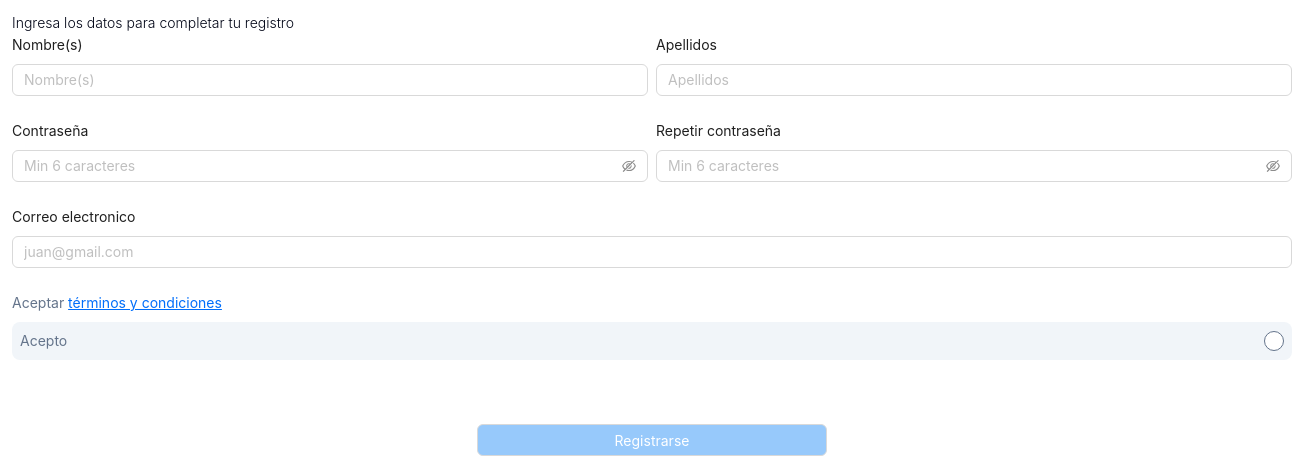
Test: Resgiter Validation Test › should show an error when the password is too short
Type "123" into the password field with test id "password-input" at x=321, y=166, box 24,155 -> 618,177
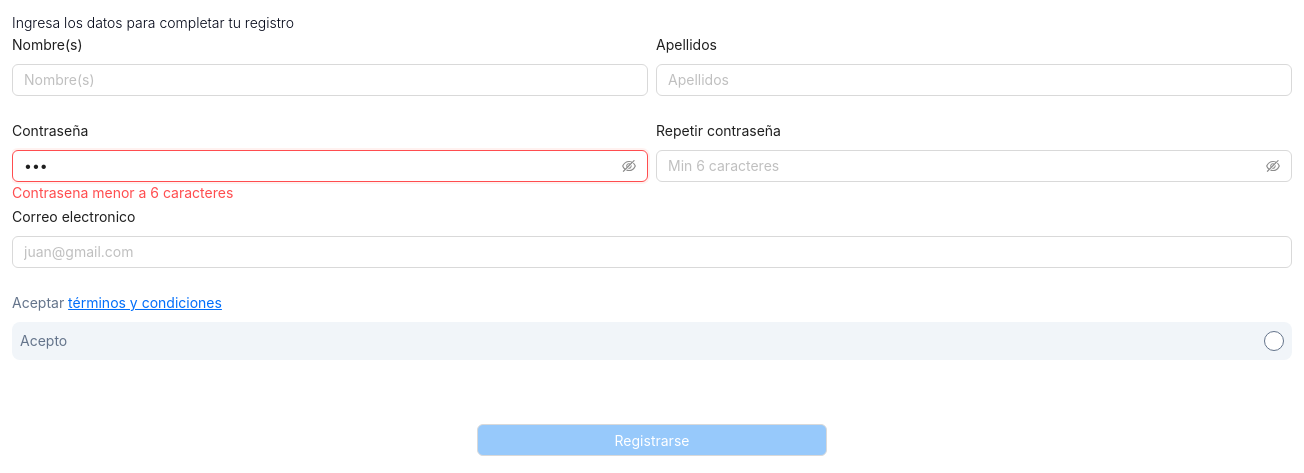
Expected: the text "Contrasena menor a 6 caracteres" is shown, 12,184 -> 233,201
